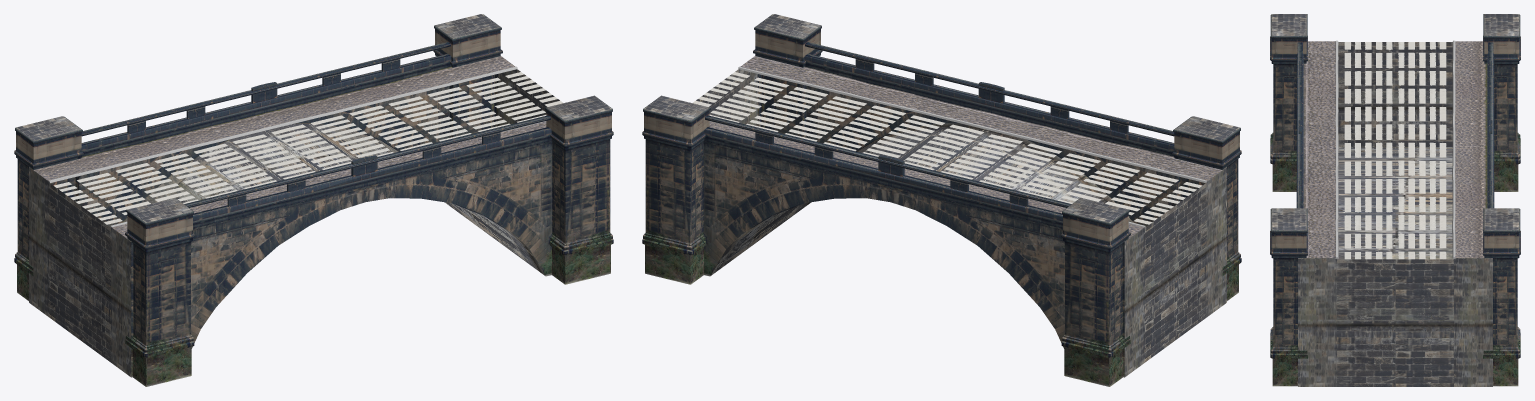
File: Bridge.fbx
3 views of the same model, side by side, from view 1: azimuth 30°, elevation 25°; view 2: azimuth 150°, elevation 25°; view 3: azimuth 270°, elevation 25° (orthographic). The views are drawn at different scales.
Visible parts, largest first — view 1: Bridge; view 2: Bridge; view 3: Bridge.
Boxes of the visible parts, bbox=[...] form: Bridge: bbox=[14, 14, 613, 386]; Bridge: bbox=[642, 14, 1241, 386]; Bridge: bbox=[1270, 14, 1520, 386].
Bounding box in the file's own units: 3310 × 1110 × 1612.
